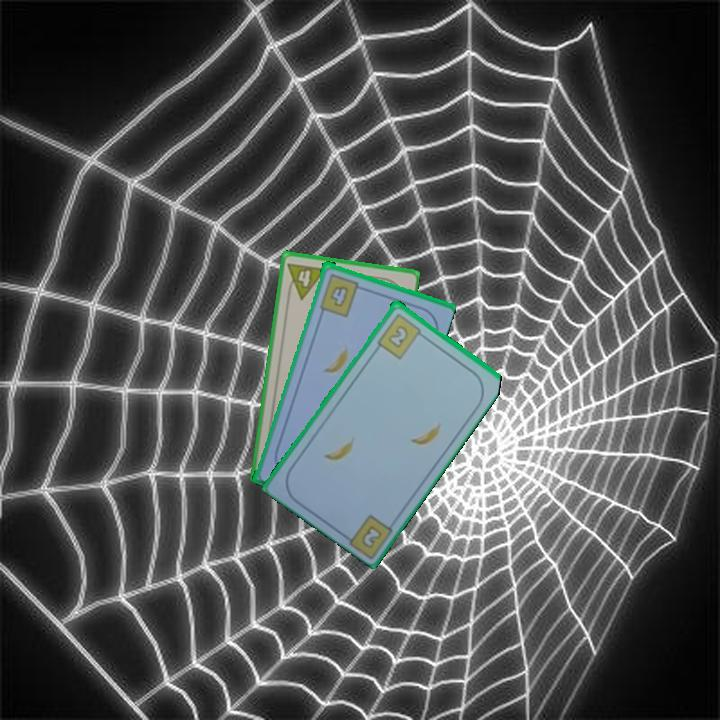2b: (373, 309, 428, 361), (358, 521, 385, 551)
4b: (316, 270, 366, 319)
4p: (283, 259, 329, 302)
